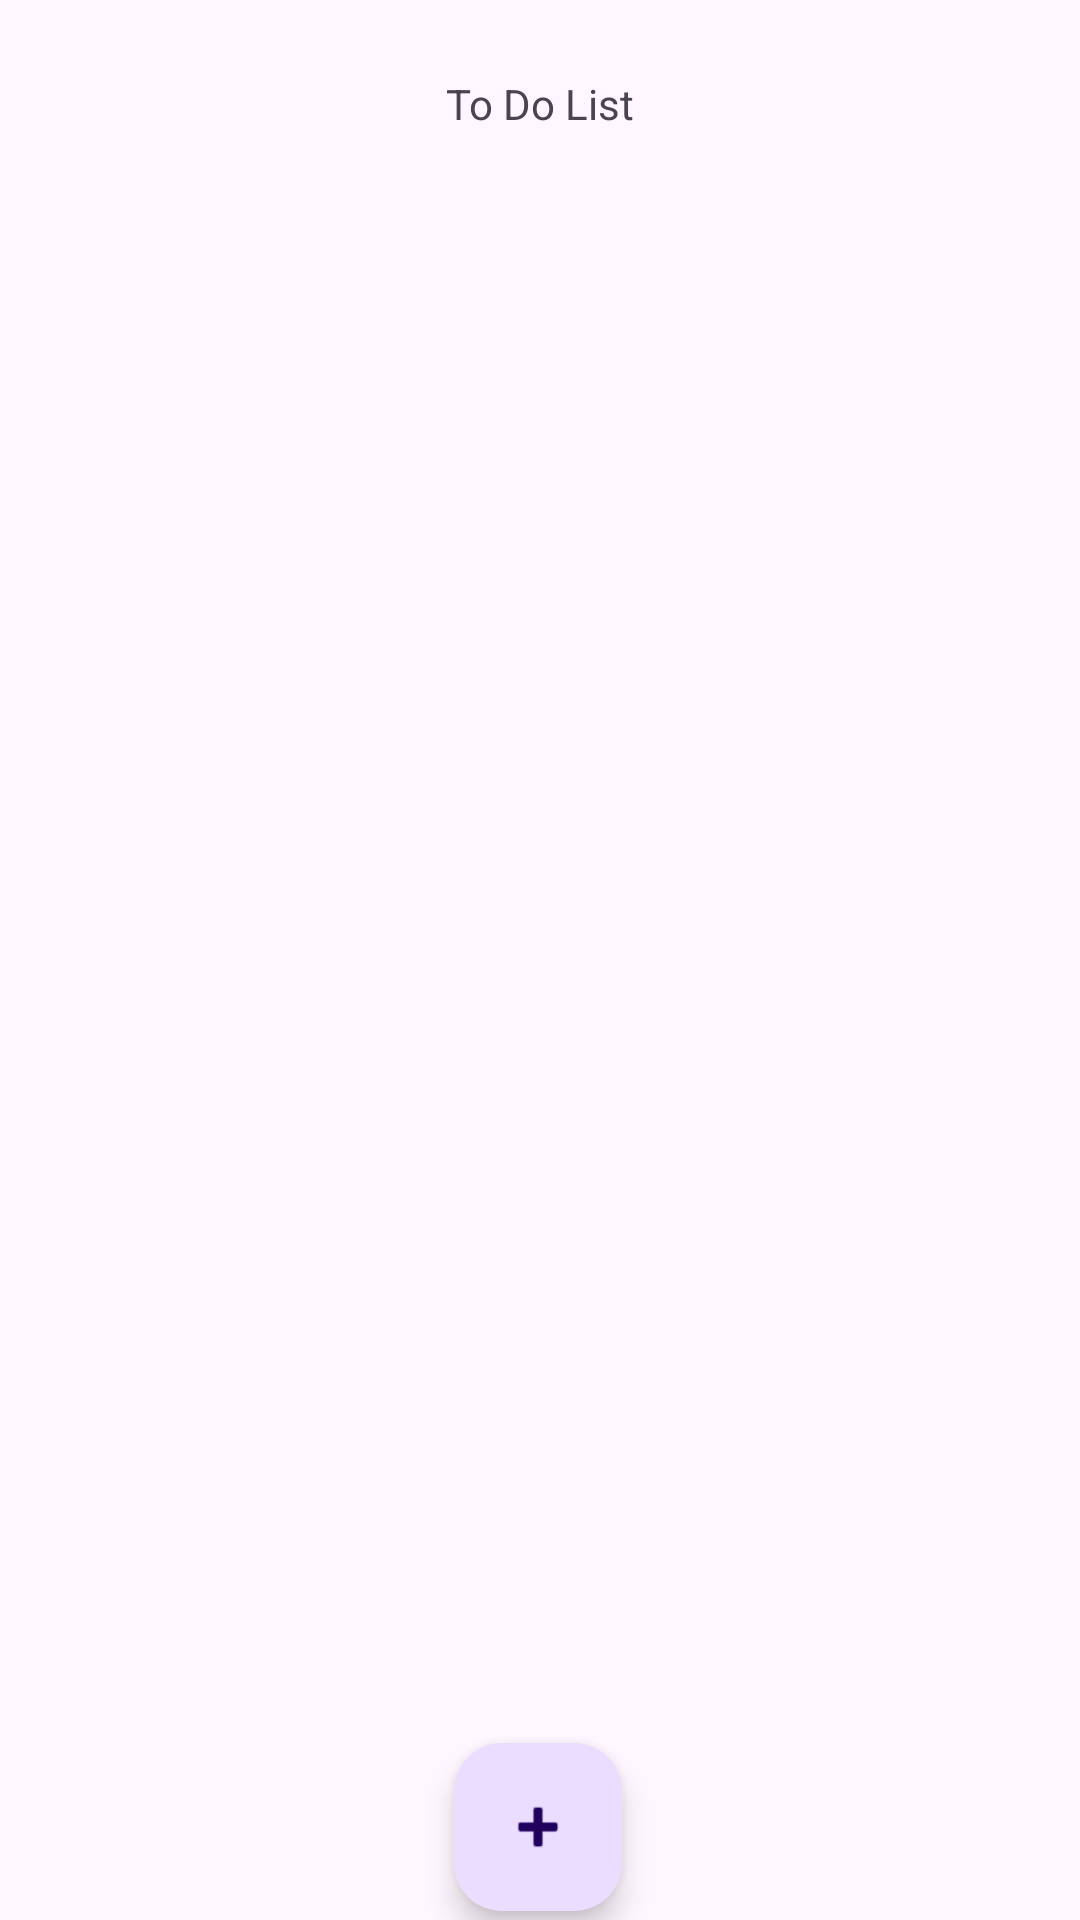

Screen size 1080w x 1920h. Icon name, then its center in pixels as (x=x, y=y):
Add Task: (x=538, y=1827)
